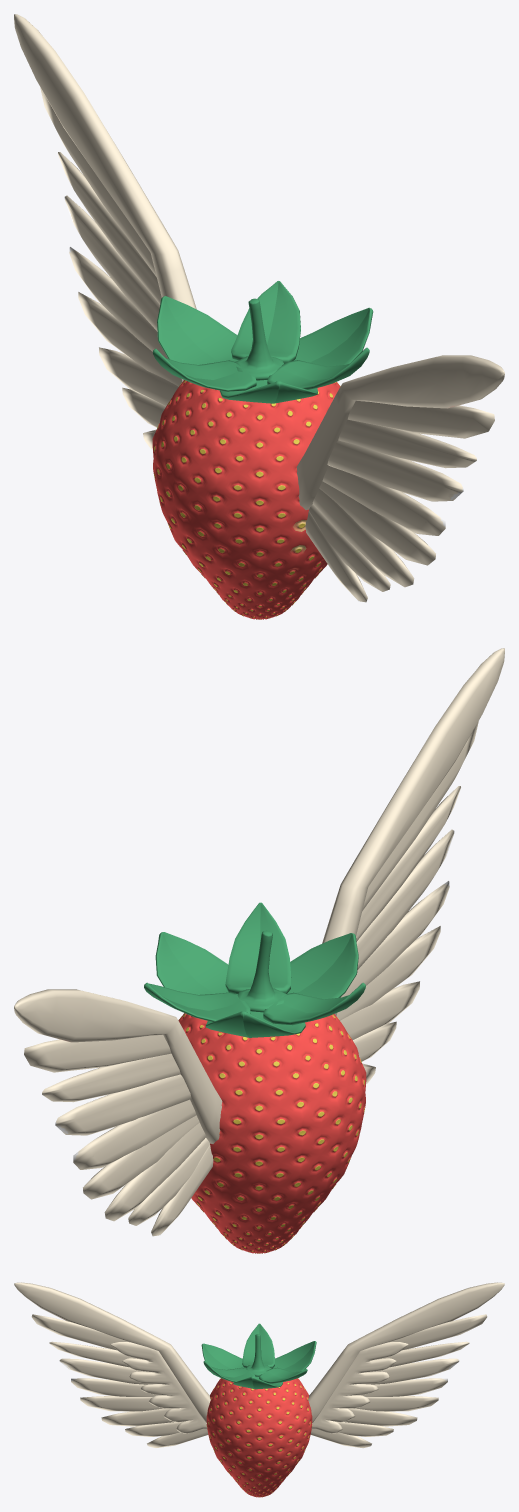
3 views of the same model, one above another, from view 1: azimuth 30°, elevation 25°; view 2: azimuth 150°, elevation 25°; view 3: azimuth 270°, elevation 25° (orthographic). The views are drawn at different scales.
Visible parts, largest first — view 1: fraise_finale; view 2: fraise_finale; view 3: fraise_finale.
Part boxes in pixels (x1=…): fraise_finale: x1=14, y1=14, x2=504, y2=619; fraise_finale: x1=14, y1=648, x2=504, y2=1253; fraise_finale: x1=14, y1=1282, x2=504, y2=1497.
Size of the model in its own units: 1.9 by 3.62 by 7.59.
Materials: 2 (1 with a texture image).
